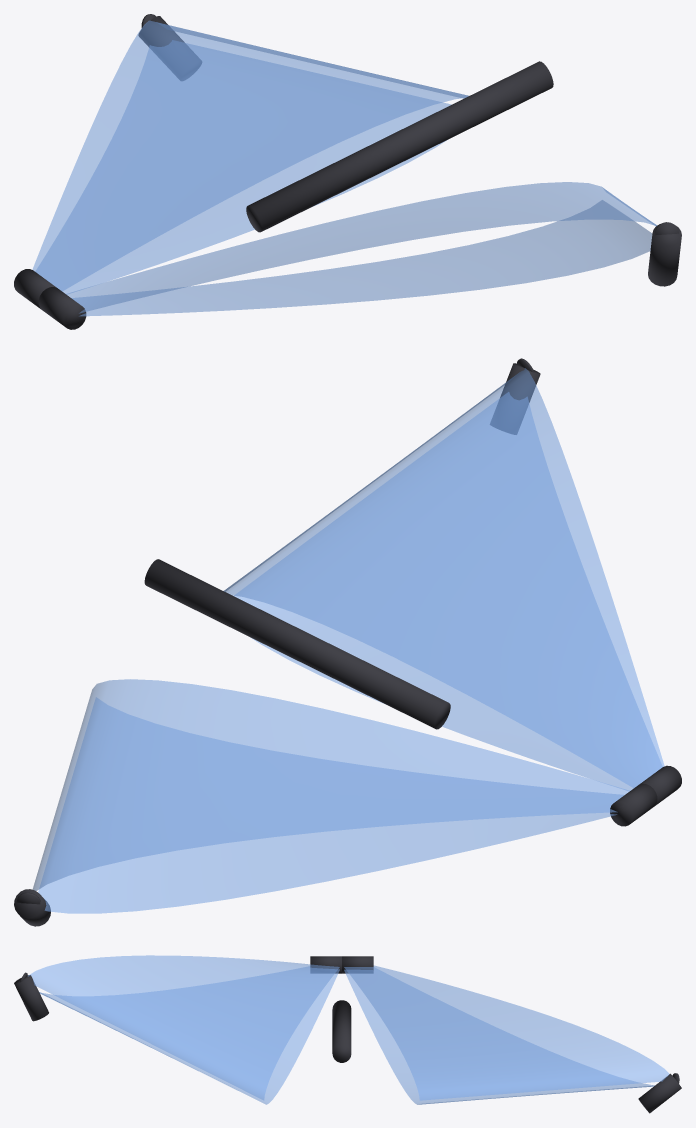
File: mid_deploy.glb
The picture shows the model from 3 angles, top to bottom: view 1: azimuth 30°, elevation 25°; view 2: azimuth 150°, elevation 25°; view 3: azimuth 270°, elevation 25°; orthographic projection. The views are drawn at different scales.
Visible parts, largest first — view 1: wing_R, wing_L, spine_yoke, tip1_R, tip1_L, te1_L, te1_R; view 2: wing_L, wing_R, spine_yoke, tip1_L, te1_R, te1_L, tip1_R; view 3: wing_L, wing_R, spine_yoke, tip1_L, tip1_R, te1_R, te1_L.
Boxes of the visible parts, x1,y1,x2,y2 form: wing_R: [32, 20, 468, 293]; wing_L: [66, 182, 656, 316]; spine_yoke: [246, 61, 553, 232]; tip1_R: [138, 16, 201, 80]; tip1_L: [648, 224, 681, 286]; te1_L: [38, 287, 86, 329]; te1_R: [14, 269, 56, 309]; wing_L: [223, 368, 664, 790]; wing_R: [33, 679, 629, 913]; spine_yoke: [144, 559, 450, 729]; tip1_L: [490, 363, 540, 434]; te1_R: [610, 783, 657, 826]; te1_L: [639, 765, 681, 806]; tip1_R: [14, 889, 50, 926]; wing_L: [28, 955, 339, 1104]; wing_R: [344, 965, 669, 1104]; spine_yoke: [332, 1000, 351, 1062]; tip1_L: [14, 975, 48, 1021]; tip1_R: [638, 1073, 681, 1113]; te1_R: [342, 956, 373, 973]; te1_L: [310, 956, 341, 973].
Size of what is drawn, in the model's own units: 0.8748 by 0.3524 by 1.55.
